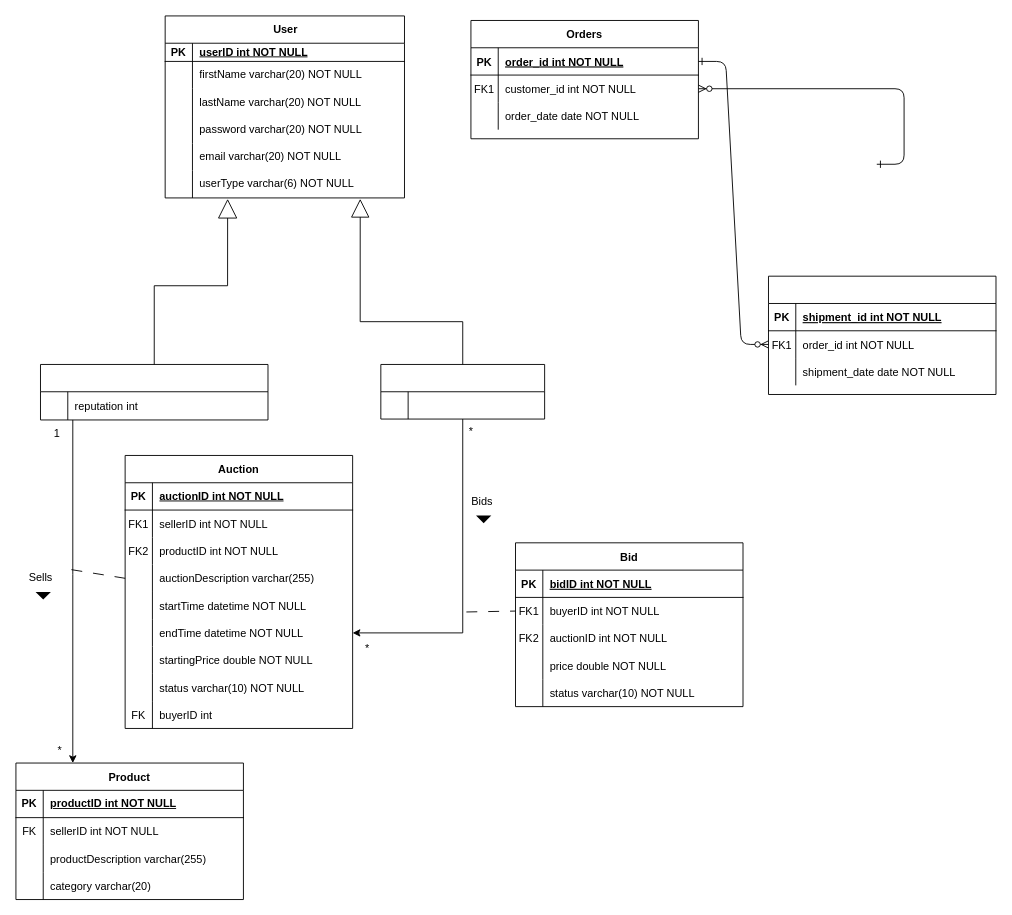
Some shapes in this 1012 by 915 pixel diagram are drawn without their labels. The shapes that lost their labels are listed below. From the top down, each one's box as (x1, y1, x2, y2) in pixels, then its label:
(768, 275, 996, 394): Shipments
(40, 364, 268, 420): Seller
(380, 364, 545, 419): Buyer
